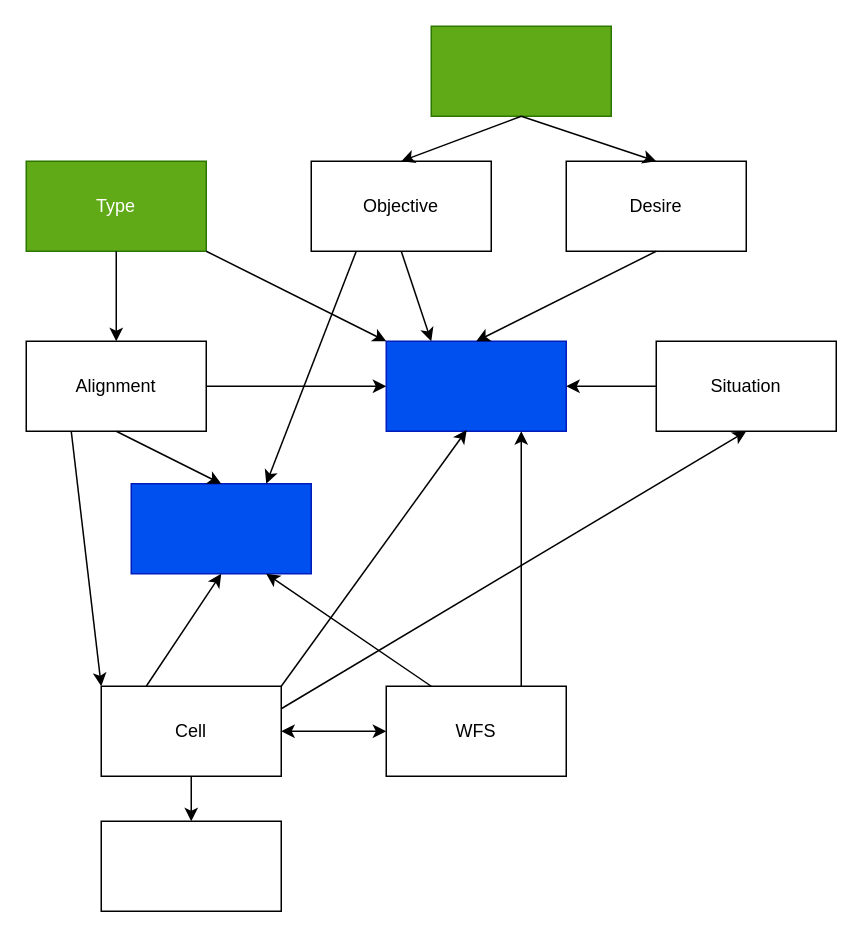
Image size: 863x938. Some labels were removed from this diagram. Here are the shapes that lost their labels. From the top down, the box of each, then its label:
(430, 25, 611, 116): Personality
(385, 340, 566, 431): Action
(130, 482, 311, 574): Move
(100, 820, 281, 911): Location
